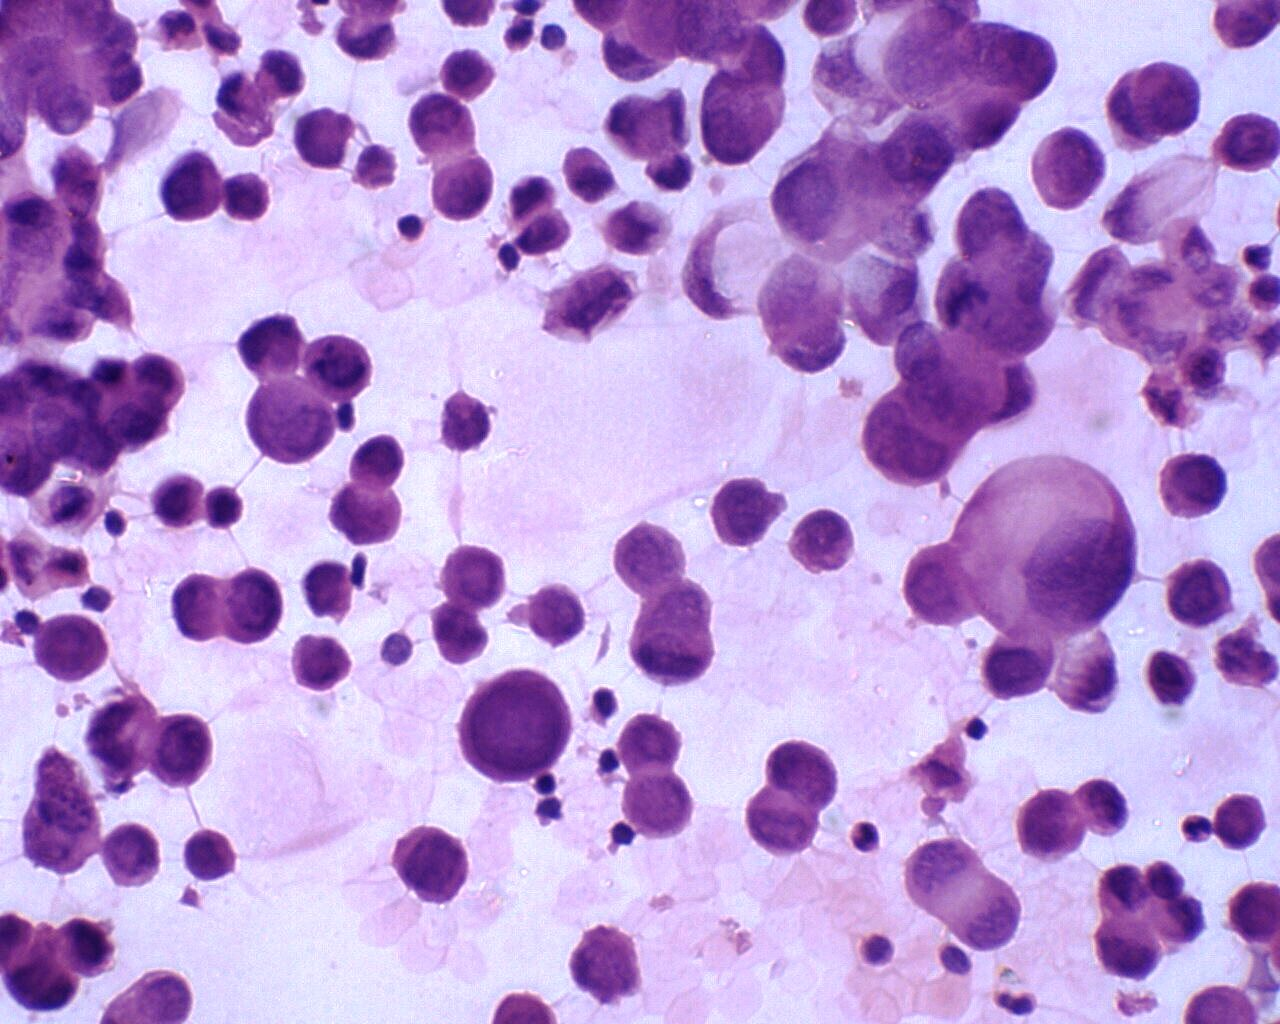ab: (962, 447, 1139, 639), (453, 666, 575, 785), (862, 394, 963, 497), (393, 817, 474, 906), (604, 513, 688, 595), (1124, 56, 1203, 141), (1033, 124, 1108, 213), (30, 613, 113, 686), (148, 709, 220, 793), (153, 142, 224, 227), (1013, 789, 1088, 866), (767, 736, 838, 813), (218, 566, 286, 647), (300, 333, 376, 404), (426, 153, 499, 226), (621, 771, 696, 842), (709, 472, 778, 550), (1159, 449, 1230, 522), (786, 506, 859, 577), (1166, 556, 1234, 630), (522, 578, 589, 648), (437, 544, 508, 608), (1216, 107, 1279, 178), (290, 631, 356, 698), (99, 821, 164, 889), (616, 709, 683, 773), (1213, 789, 1269, 853), (183, 825, 238, 884)
neutro: (1178, 808, 1216, 852), (847, 820, 886, 859)
